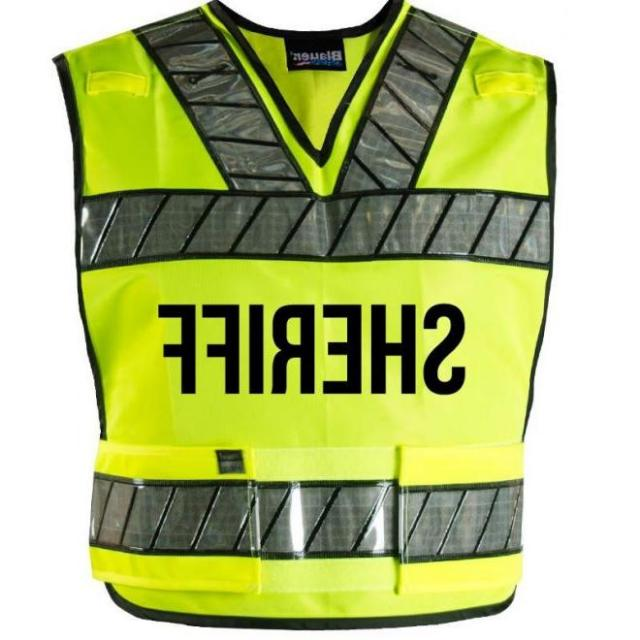Reflective-Jacket: (36, 0, 587, 640)
